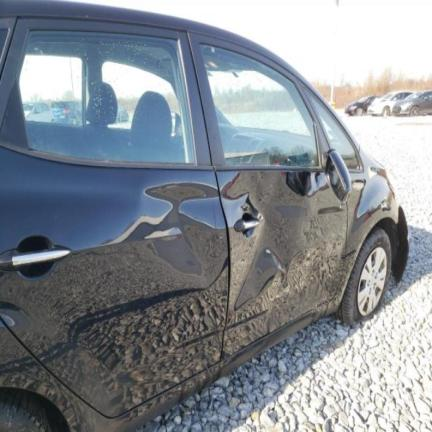dent: (224, 164, 305, 308), (138, 184, 225, 273)
